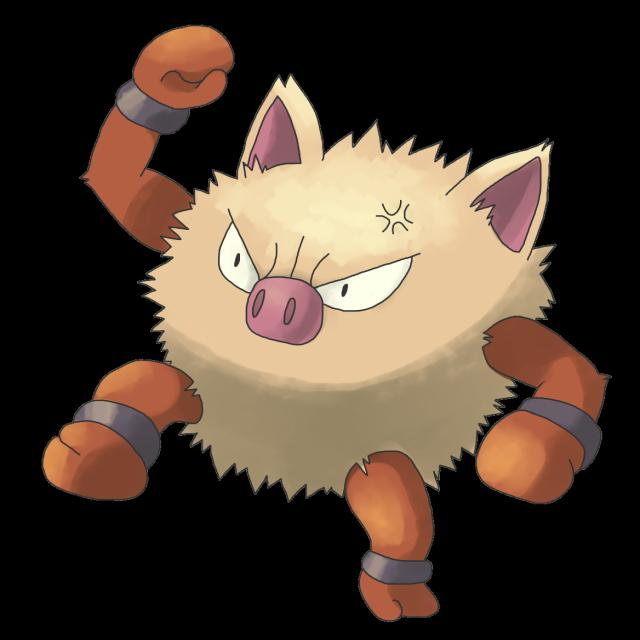Primeape: (90, 81, 552, 597)
